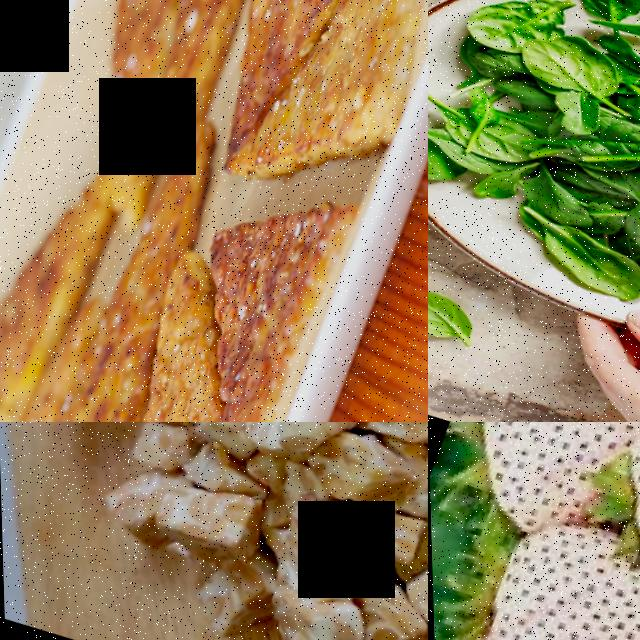spinach: (523, 210, 640, 320), (434, 93, 542, 180), (514, 33, 608, 108), (459, 0, 538, 63), (428, 273, 482, 358), (570, 0, 640, 34)
strawberry: (449, 501, 640, 640), (444, 422, 640, 551)
